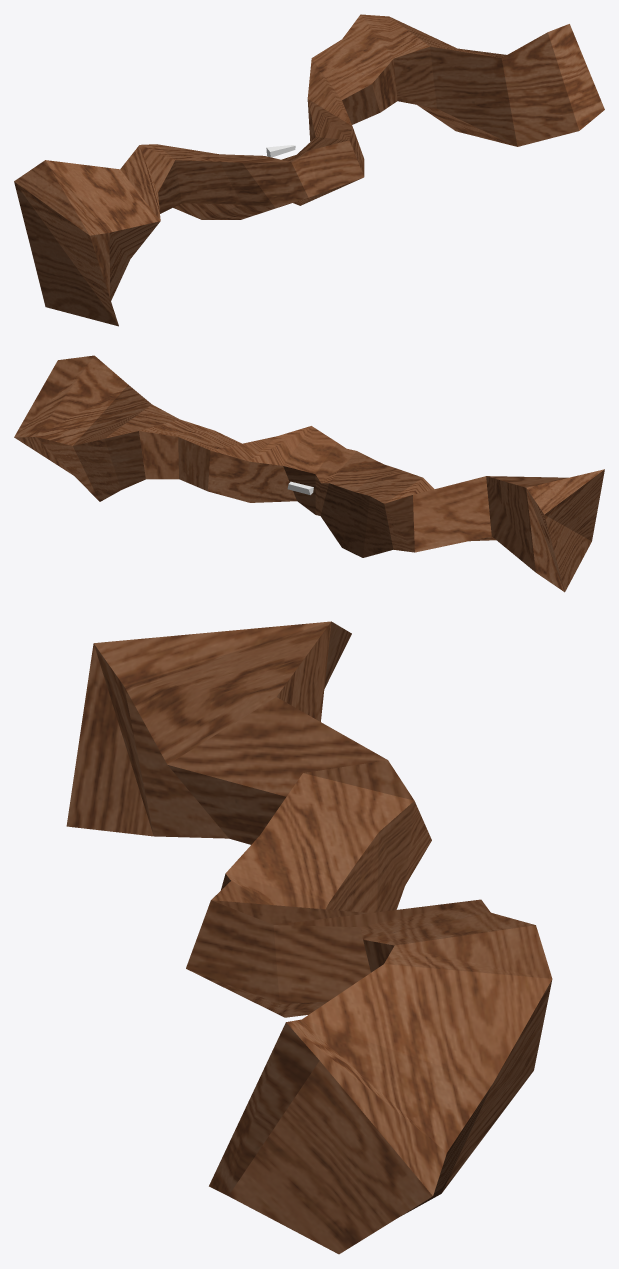
Rendered from 25-01-13_parallelepiped2.glb.
3 renders of one model, top to bottom at view 1: azimuth 30°, elevation 25°; view 2: azimuth 150°, elevation 25°; view 3: azimuth 270°, elevation 25°, orthographic. The views are drawn at different scales.
Visible parts, largest first — view 1: 立方体.001; view 2: 立方体.001; view 3: 立方体.001.
Part boxes in pixels (bbox=[...]): 立方体.001: bbox=[14, 14, 604, 326]; 立方体.001: bbox=[14, 355, 604, 592]; 立方体.001: bbox=[66, 621, 552, 1254].
Size of the model in its own units: 195 by 47.6 by 80.58.
Materials: 2 (1 with a texture image).
